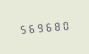eight: (54, 19, 62, 32)
five: (17, 22, 25, 35)
nine: (36, 20, 44, 34)
six: (45, 19, 53, 33), (26, 21, 34, 34)
zero: (63, 18, 71, 31)
